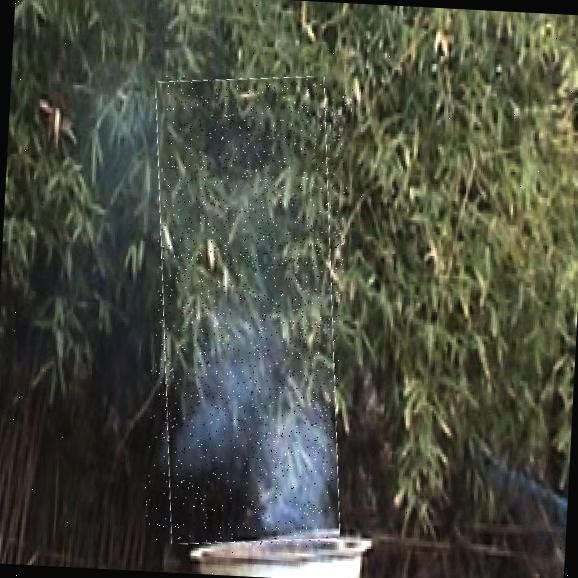smoke: (142, 71, 353, 549)
